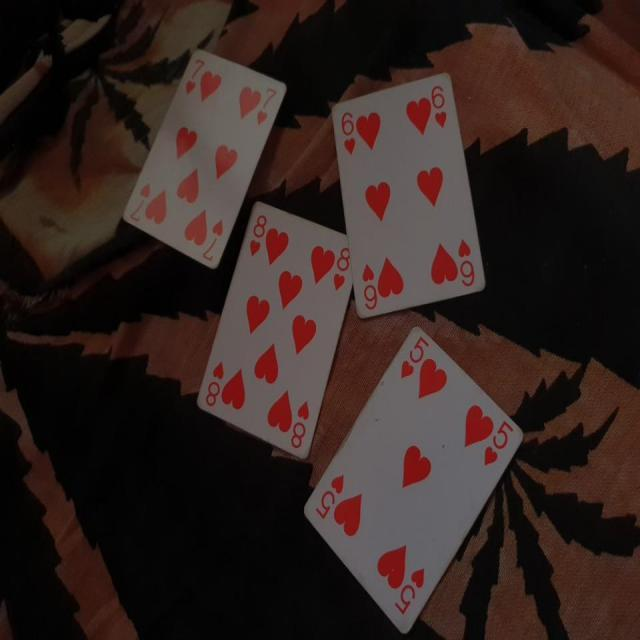5 of hearts: (288, 323, 524, 628)
6 of hearts: (332, 65, 495, 316)
7 of hearts: (113, 44, 289, 274)
8 of hearts: (186, 192, 358, 468)
